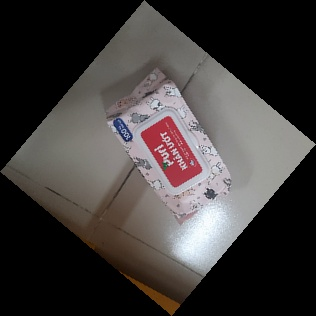Puri hong: (103, 66, 235, 227)
